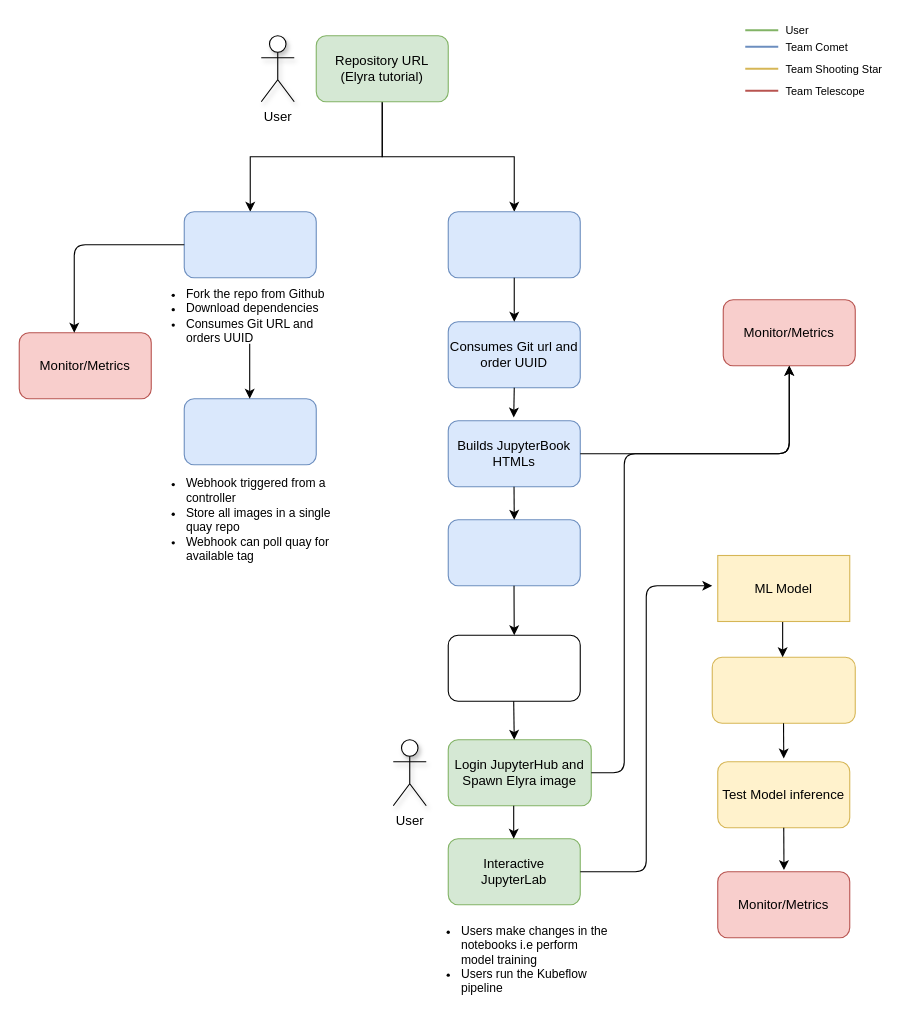
The diagram is 913 pixels wide and 1026 high, and some of its shapes have lost their labels. The centre of each missing label's shape, as x and y in pixels:
"AICoE build pipelines" belongs at point (249, 244).
"Build image, or overlays" belongs at point (249, 431).
"Deploy Model (create seldon/kfserving deployments)" belongs at point (783, 689).
"JupyterBook pipeline" belongs at point (513, 244).
"Rendered JupyterBook" belongs at point (513, 667).
"Stores HTML in a PVC in the order (UUID) folder." belongs at point (513, 552).
